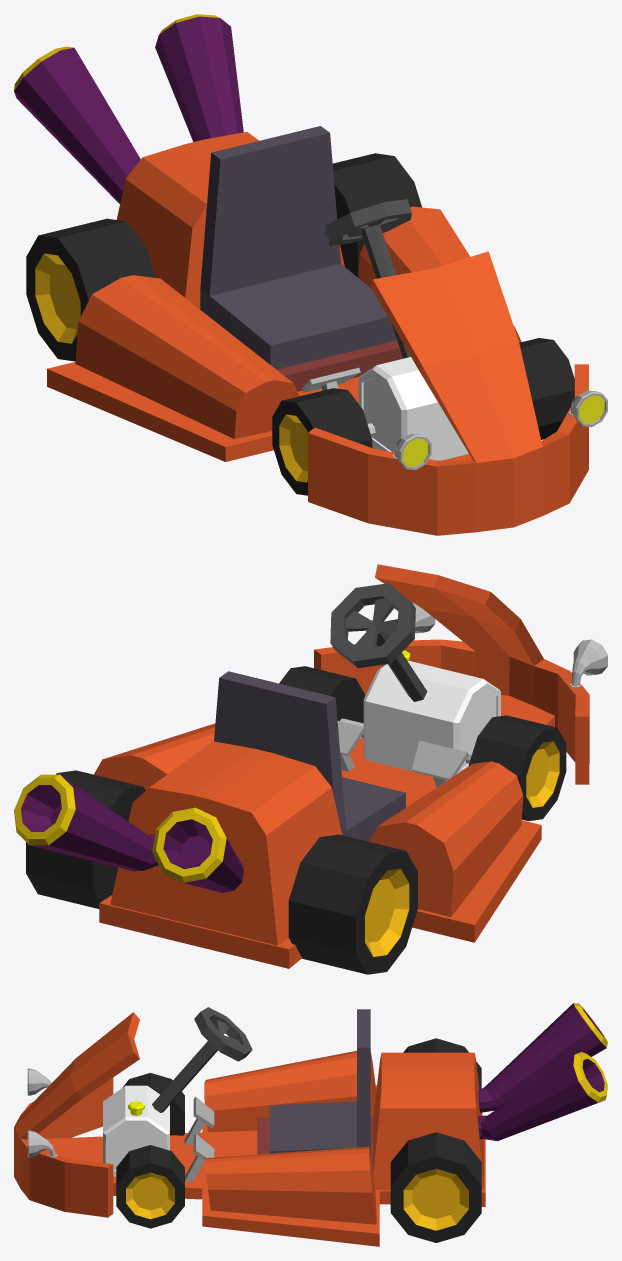
Rendered from OrangeKart.glb.
3 renders of one model, top to bottom at view 1: azimuth 30°, elevation 25°; view 2: azimuth 150°, elevation 25°; view 3: azimuth 270°, elevation 25°, orthographic. The views are drawn at different scales.
Parts seen in each view (by area): view 1: KartPlataform1, Hood1, Chair1, Catalysts1, Wheel_BR, Wheel_FR, Wheel_BL, Wheel_FL, SteeringWheel1, Lights_Kart1, Pedals1; view 2: KartPlataform1, Hood1, Wheel_BR, Catalysts1, Chair1, SteeringWheel1, Wheel_FR, Wheel_BL, Pedals1, Wheel_FL, Lights_Kart1; view 3: KartPlataform1, Hood1, Catalysts1, Wheel_BL, Chair1, Wheel_FL, SteeringWheel1, Pedals1, Wheel_FR, Lights_Kart1, Wheel_BR.
Part boxes in pixels (x1,y1,x2,y2): KartPlataform1: (47,132,521,461); Hood1: (308,251,588,535); Chair1: (200,126,403,391); Catalysts1: (14,14,243,203); Wheel_BR: (26,218,155,361); Wheel_FR: (272,388,372,495); Wheel_BL: (332,153,421,277); Wheel_FL: (519,338,574,439); SteeringWheel1: (324,199,411,358); Lights_Kart1: (392,390,607,470); Pedals1: (302,367,360,392); KartPlataform1: (94,650,554,968); Hood1: (314,564,589,784); Wheel_BR: (288,834,417,974); Catalysts1: (14,774,243,892); Chair1: (214,671,405,841); SteeringWheel1: (330,583,427,701); Wheel_FR: (468,715,566,821); Wheel_BL: (26,770,145,908); Pedals1: (337,720,468,787); Wheel_FL: (279,666,364,723); Lights_Kart1: (412,602,607,687); KartPlataform1: (45,1050,485,1246); Hood1: (14,1012,139,1217); Catalysts1: (478,1003,607,1140); Wheel_BL: (390,1132,481,1242); Chair1: (257,1009,373,1172); Wheel_FL: (116,1145,184,1228); SteeringWheel1: (152,1007,252,1112); Pedals1: (184,1097,214,1181); Wheel_FR: (122,1073,184,1135); Lights_Kart1: (27,1068,57,1157); Wheel_BR: (403,1038,481,1089).
Size of the model in its own units: 10.53 by 5.62 by 17.74.
